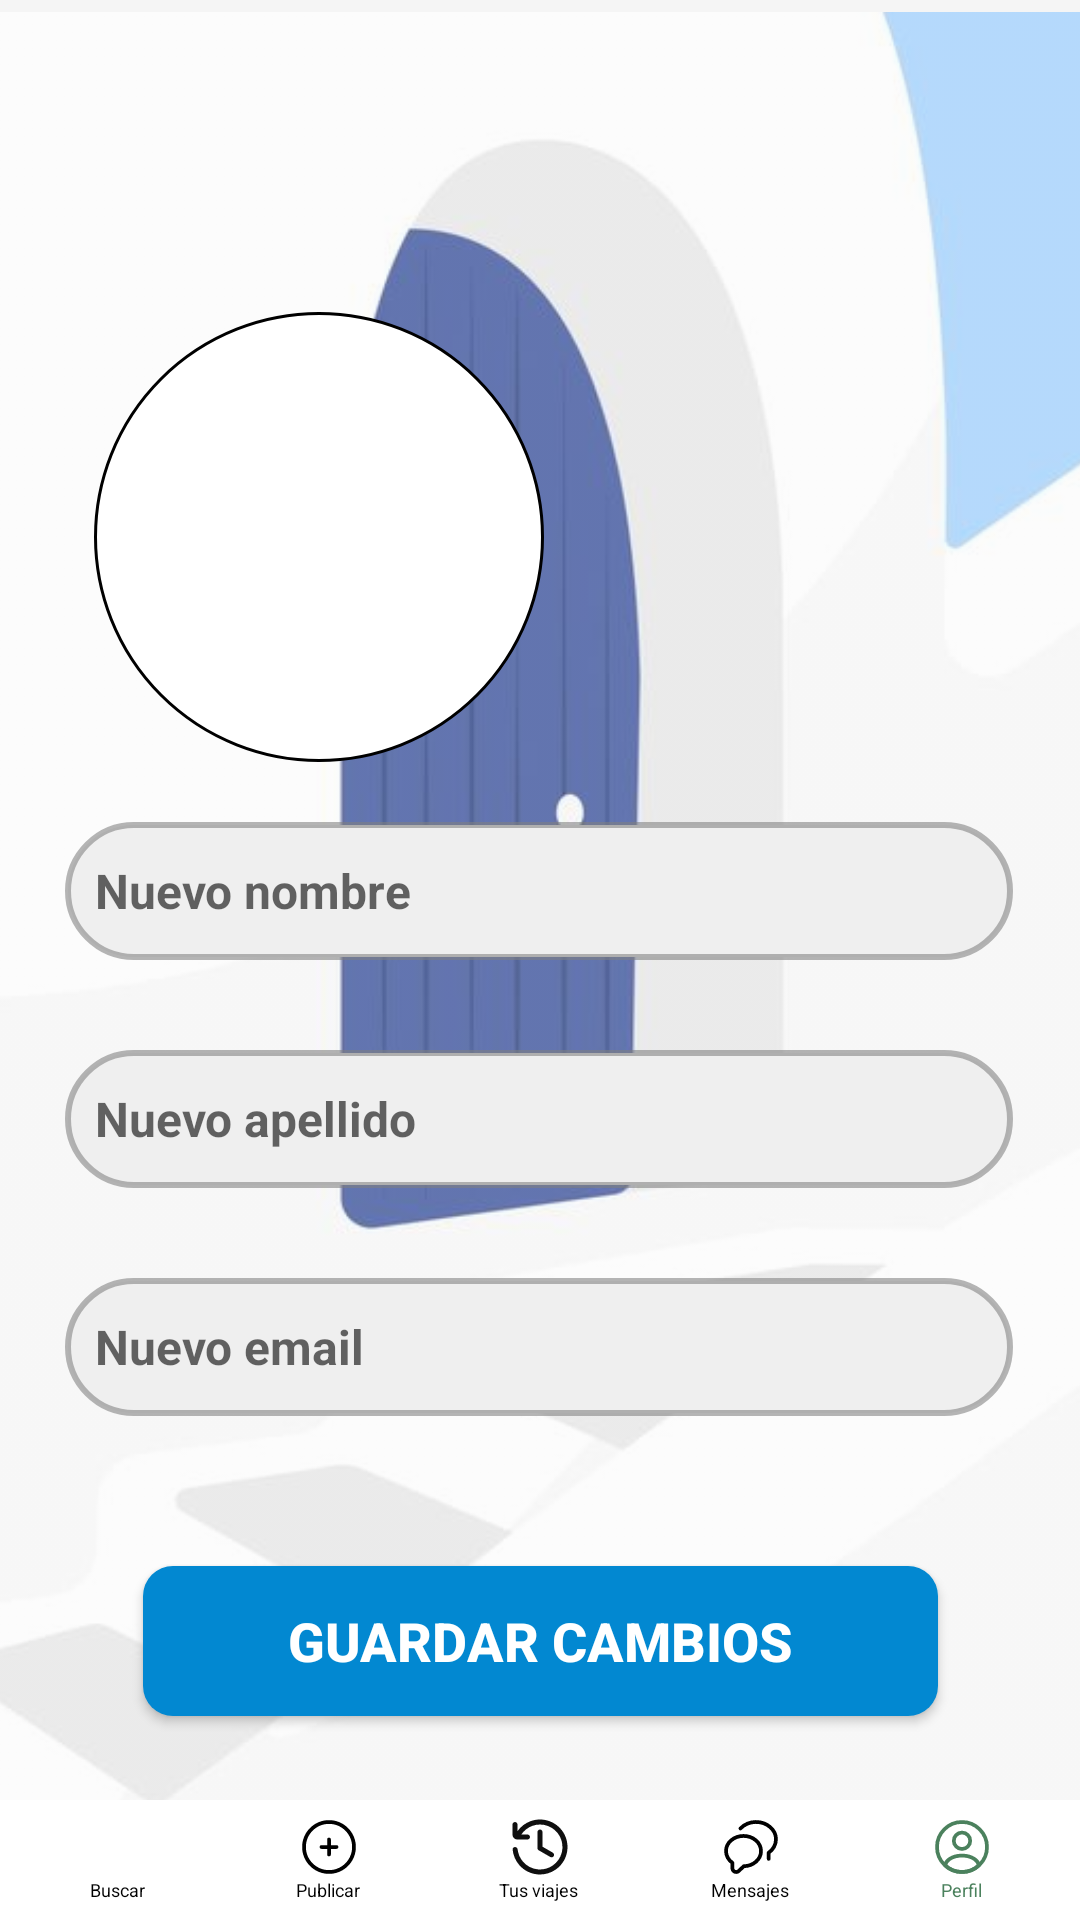

Screen size 1080w x 1920h. Icon name, then its center in pixels as (x=x, y=y):
History: (x=540, y=1847)
